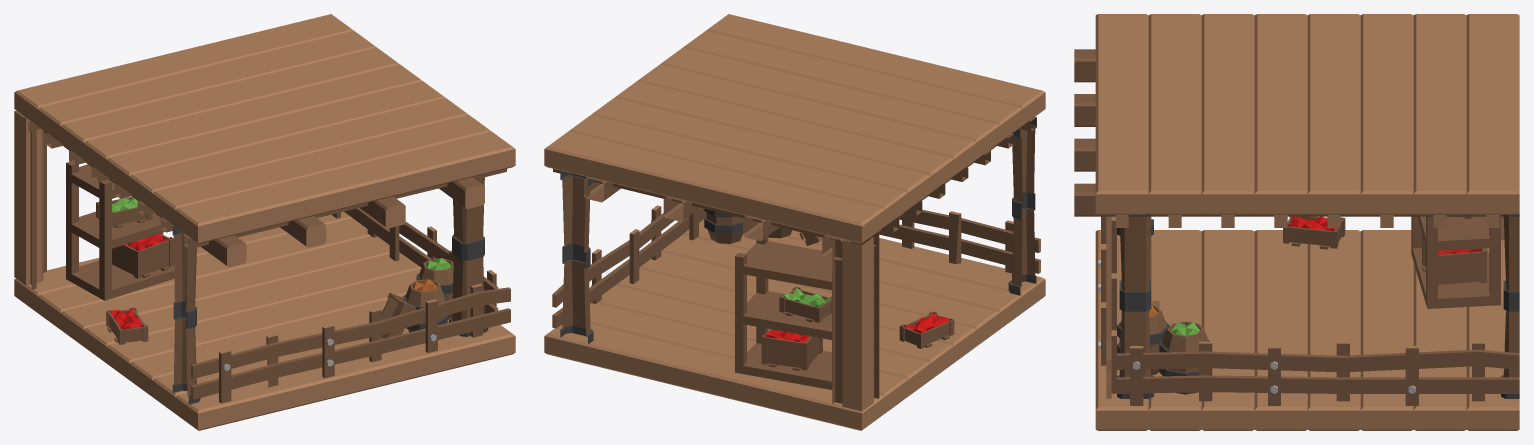
File: FoodStorage_Lvl_01_Corner_Left_Right.fbx
3 views of the same model, side by side, from view 1: azimuth 30°, elevation 25°; view 2: azimuth 150°, elevation 25°; view 3: azimuth 270°, elevation 25° (orthographic). The views are drawn at different scales.
Parts seen in each view (by area): view 1: FoodStorage_Lvl_01_Corner_Left_Right; view 2: FoodStorage_Lvl_01_Corner_Left_Right; view 3: FoodStorage_Lvl_01_Corner_Left_Right.
Part boxes in pixels (<box>): FoodStorage_Lvl_01_Corner_Left_Right: <box>14,14,515,430</box>; FoodStorage_Lvl_01_Corner_Left_Right: <box>544,14,1045,430</box>; FoodStorage_Lvl_01_Corner_Left_Right: <box>1074,14,1519,430</box>.
Size of the model in its own units: 8 by 5 by 8.4.
